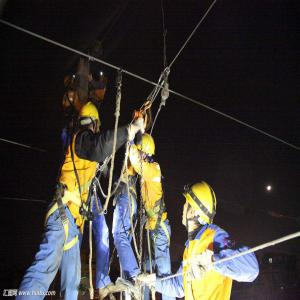yellow: (180, 179, 218, 239), (77, 99, 103, 139), (135, 131, 157, 167)
